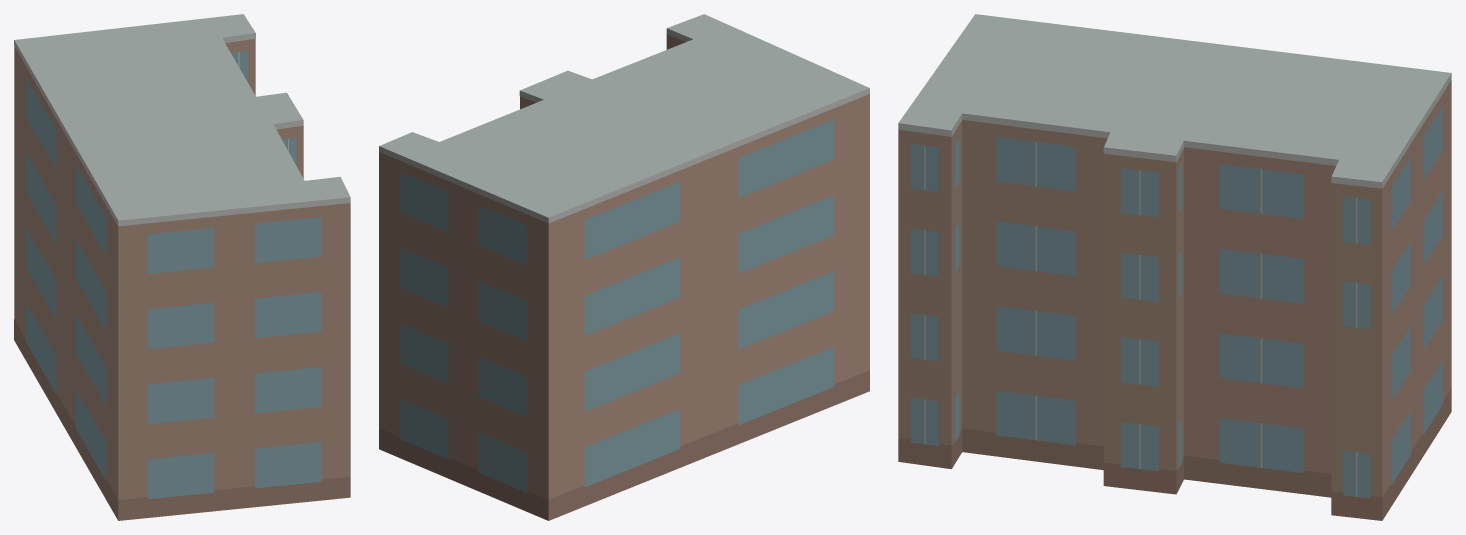
The model's file is survey-upis-32751868.glb.
3 views of the same model, side by side, from view 1: azimuth 30°, elevation 25°; view 2: azimuth 150°, elevation 25°; view 3: azimuth 270°, elevation 25° (orthographic). The views are drawn at different scales.
Parts seen in each view (by area): view 1: survey-upis-32751868.tmp; view 2: survey-upis-32751868.tmp; view 3: survey-upis-32751868.tmp.
Boxes of the visible parts, left/top/right/bottom form: survey-upis-32751868.tmp: left=14, top=14, right=350, bottom=520; survey-upis-32751868.tmp: left=379, top=14, right=869, bottom=520; survey-upis-32751868.tmp: left=898, top=14, right=1451, bottom=520.
Size of the model in its own units: 13.65 by 12.8 by 18.97.
